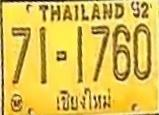0: (132, 23, 152, 80)
1: (39, 26, 47, 85), (76, 26, 84, 82)
6: (112, 24, 130, 81)
7: (11, 26, 31, 83), (91, 24, 110, 81)
CMI: (55, 86, 114, 111)
